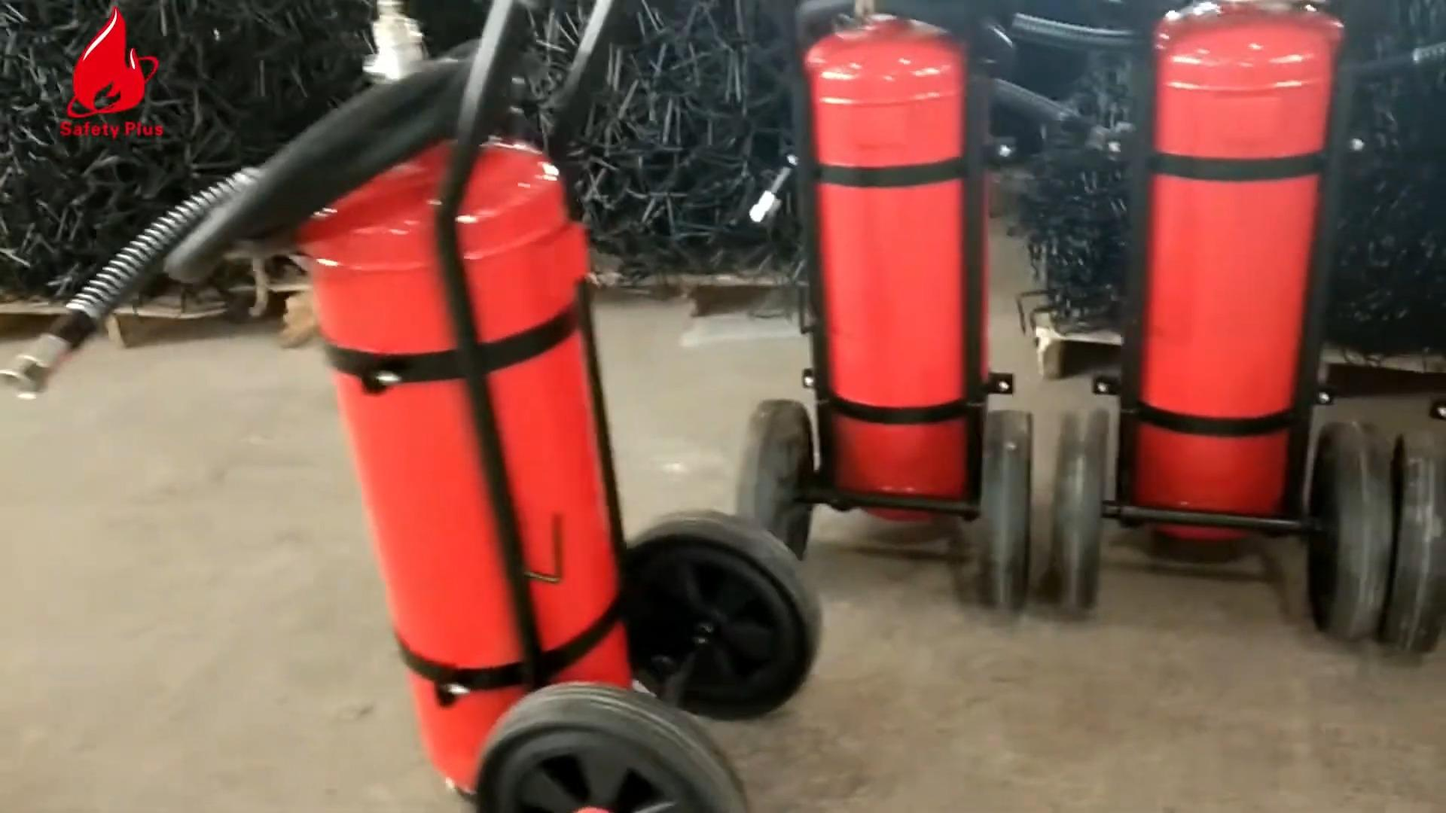FireExtinguisher: (280, 61, 665, 812), (1093, 0, 1382, 570), (777, 0, 1028, 552)
